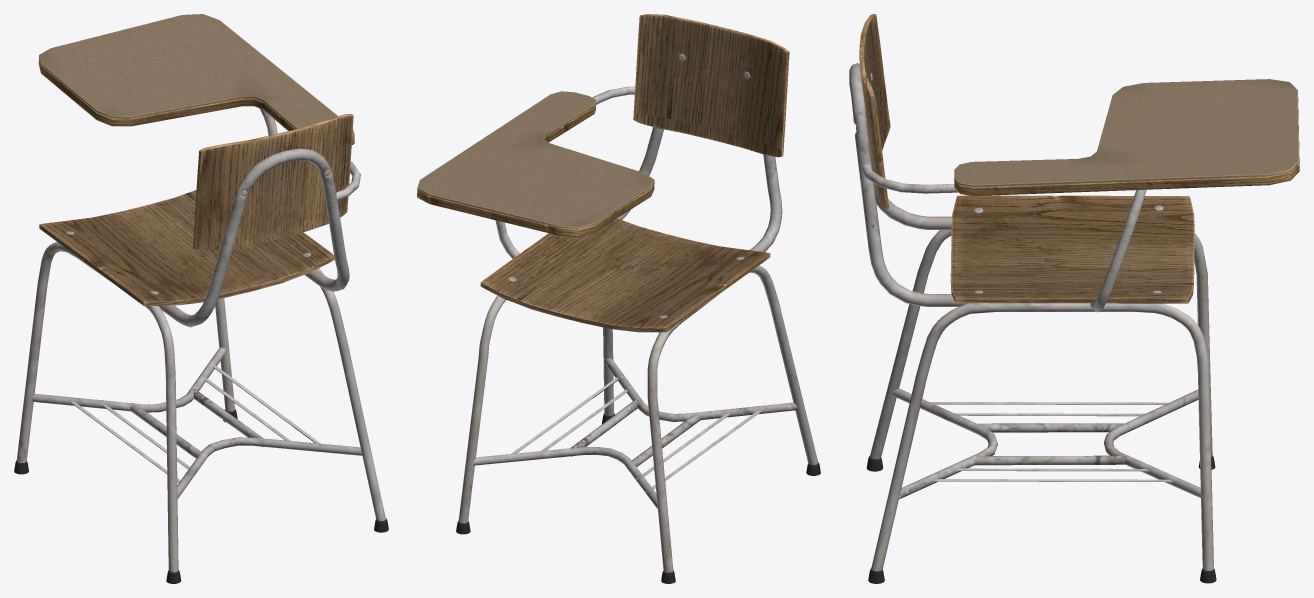
Rendered from cr_desk.glb.
The picture shows the model from 3 angles, left to right: view 1: azimuth 30°, elevation 25°; view 2: azimuth 150°, elevation 25°; view 3: azimuth 270°, elevation 25°; orthographic projection. The views are drawn at different scales.
Visible parts, largest first — view 1: chair.001__Plane.003, chair.001__Box297.002, chair.001__Box280.002, chair.001__Cylinder813.003, chair.001__Cylinder813.001, chair.001__Plane.004, chair.001__Cylinder813.000, chair.001__Box295.002; view 2: chair.001__Box297.002, chair.001__Box280.002, chair.001__Plane.003, chair.001__Cylinder813.003, chair.001__Plane.004, chair.001__Cylinder813.001, chair.001__Cylinder813.000; view 3: chair.001__Box297.002, chair.001__Plane.003, chair.001__Cylinder813.003, chair.001__Cylinder813.001, chair.001__Plane.004, chair.001__Box280.002, chair.001__Cylinder813.000, chair.001__Box295.002, chair.001__Box299.002, chair.001__Box296.002, chair.001__Box298.002.
Boxes of the visible parts, left/top/right/bottom form: chair.001__Plane.003: left=39, top=14, right=354, bottom=136; chair.001__Box297.002: left=39, top=190, right=334, bottom=305; chair.001__Box280.002: left=193, top=114, right=353, bottom=250; chair.001__Cylinder813.003: left=16, top=242, right=385, bottom=572; chair.001__Cylinder813.001: left=159, top=148, right=349, bottom=327; chair.001__Plane.004: left=38, top=58, right=354, bottom=144; chair.001__Cylinder813.000: left=259, top=108, right=360, bottom=200; chair.001__Box295.002: left=213, top=365, right=320, bottom=443; chair.001__Box297.002: left=480, top=218, right=770, bottom=332; chair.001__Box280.002: left=633, top=14, right=789, bottom=157; chair.001__Plane.003: left=417, top=91, right=654, bottom=228; chair.001__Cylinder813.003: left=458, top=265, right=818, bottom=572; chair.001__Plane.004: left=417, top=102, right=654, bottom=236; chair.001__Cylinder813.001: left=617, top=127, right=782, bottom=252; chair.001__Cylinder813.000: left=495, top=86, right=635, bottom=258; chair.001__Box297.002: left=950, top=195, right=1194, bottom=303; chair.001__Plane.003: left=954, top=79, right=1299, bottom=186; chair.001__Cylinder813.003: left=869, top=230, right=1213, bottom=571; chair.001__Cylinder813.001: left=849, top=63, right=971, bottom=306; chair.001__Plane.004: left=954, top=98, right=1299, bottom=195; chair.001__Box280.002: left=859, top=14, right=890, bottom=208; chair.001__Cylinder813.000: left=862, top=164, right=1146, bottom=312; chair.001__Box295.002: left=932, top=479, right=1172, bottom=482; chair.001__Box299.002: left=930, top=402, right=1180, bottom=404; chair.001__Box296.002: left=955, top=468, right=1149, bottom=471; chair.001__Box298.002: left=955, top=413, right=1156, bottom=416.
Size of the model in its own units: 0.5201 by 0.9126 by 0.7892.
4 materials, 3 textured.
